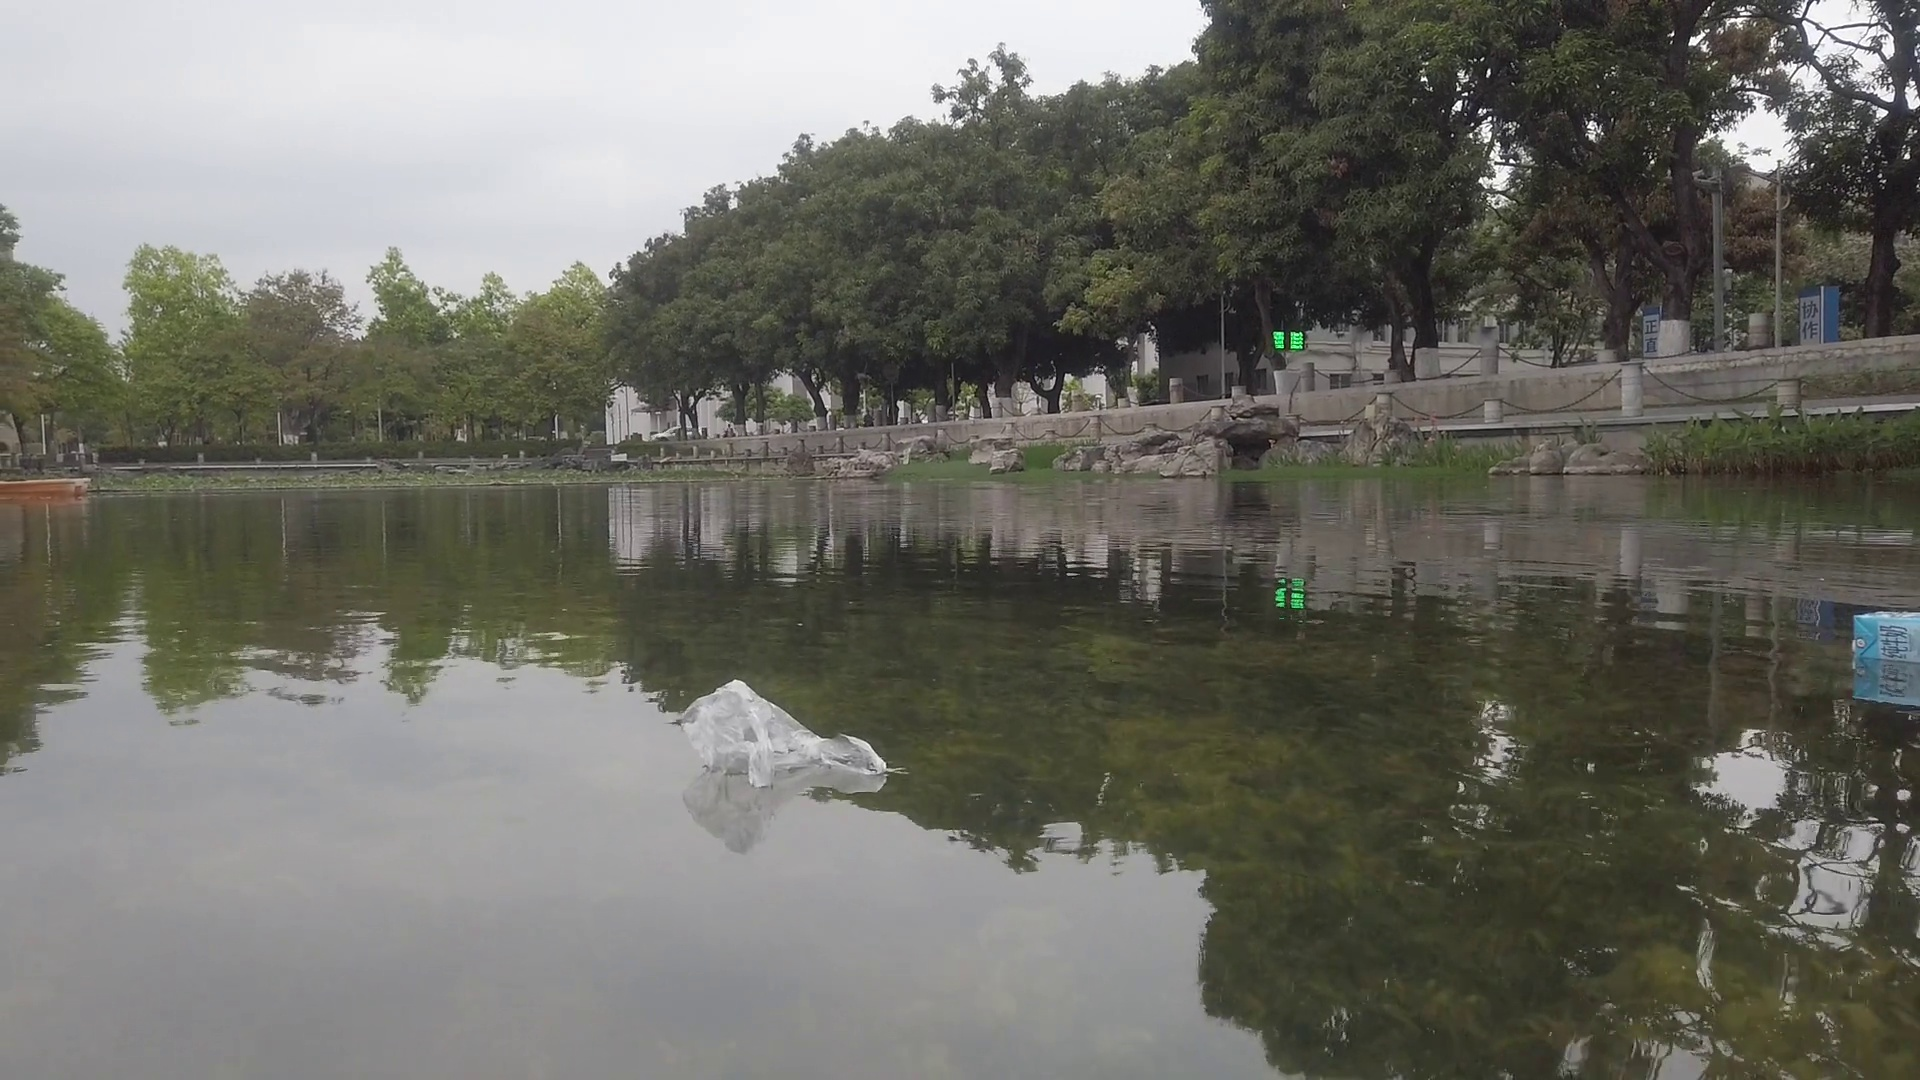carton: (1857, 612, 1920, 662)
plastic: (680, 680, 887, 778)
